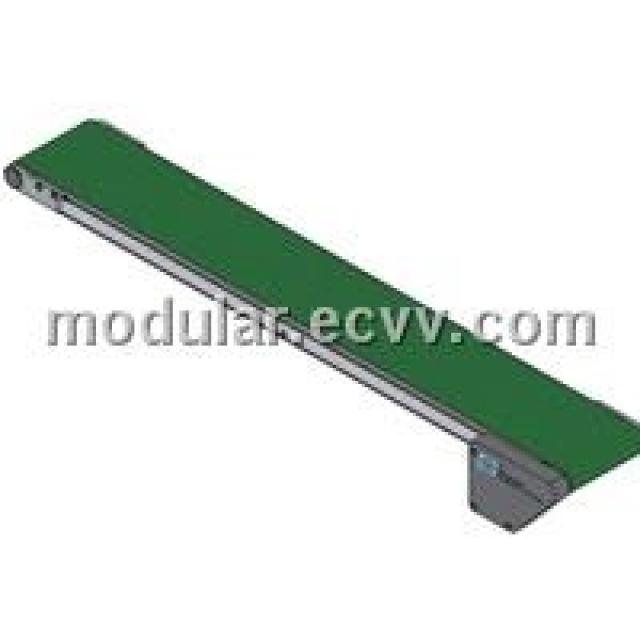conveyor: (3, 81, 640, 556)
